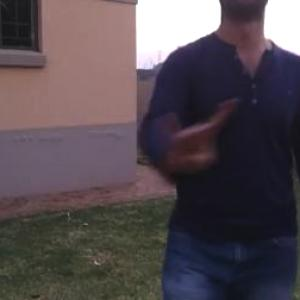takeoff-hand: (155, 88, 232, 173)
